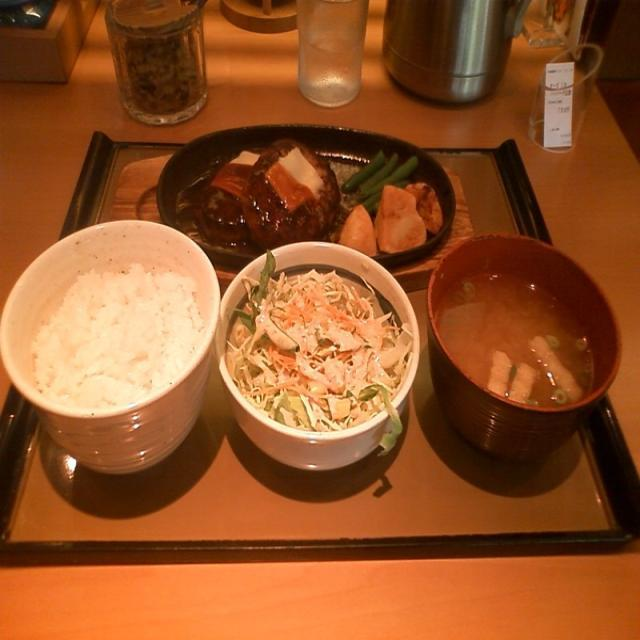Rice: (0, 224, 204, 422)
